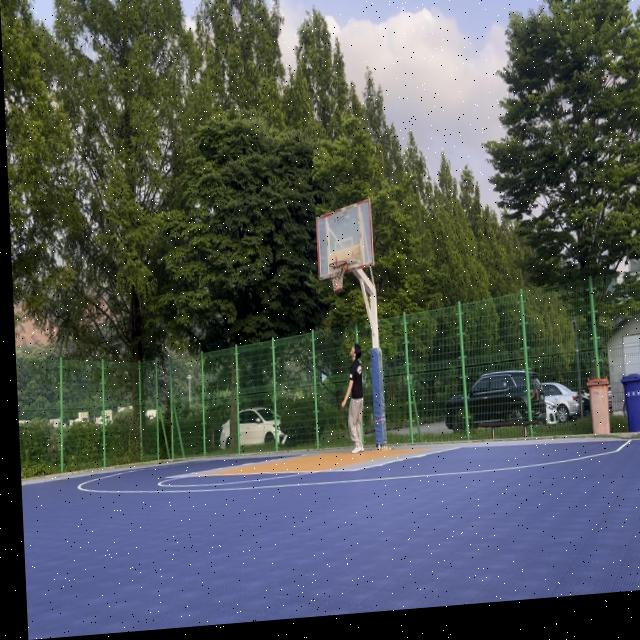basketball: (333, 278, 343, 295)
hoop: (328, 260, 349, 296), (328, 260, 348, 294)
